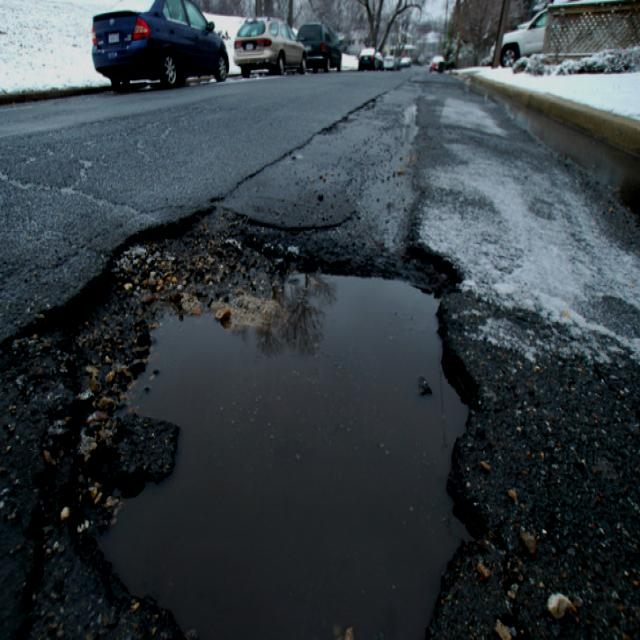bad-road: (0, 202, 492, 640)
